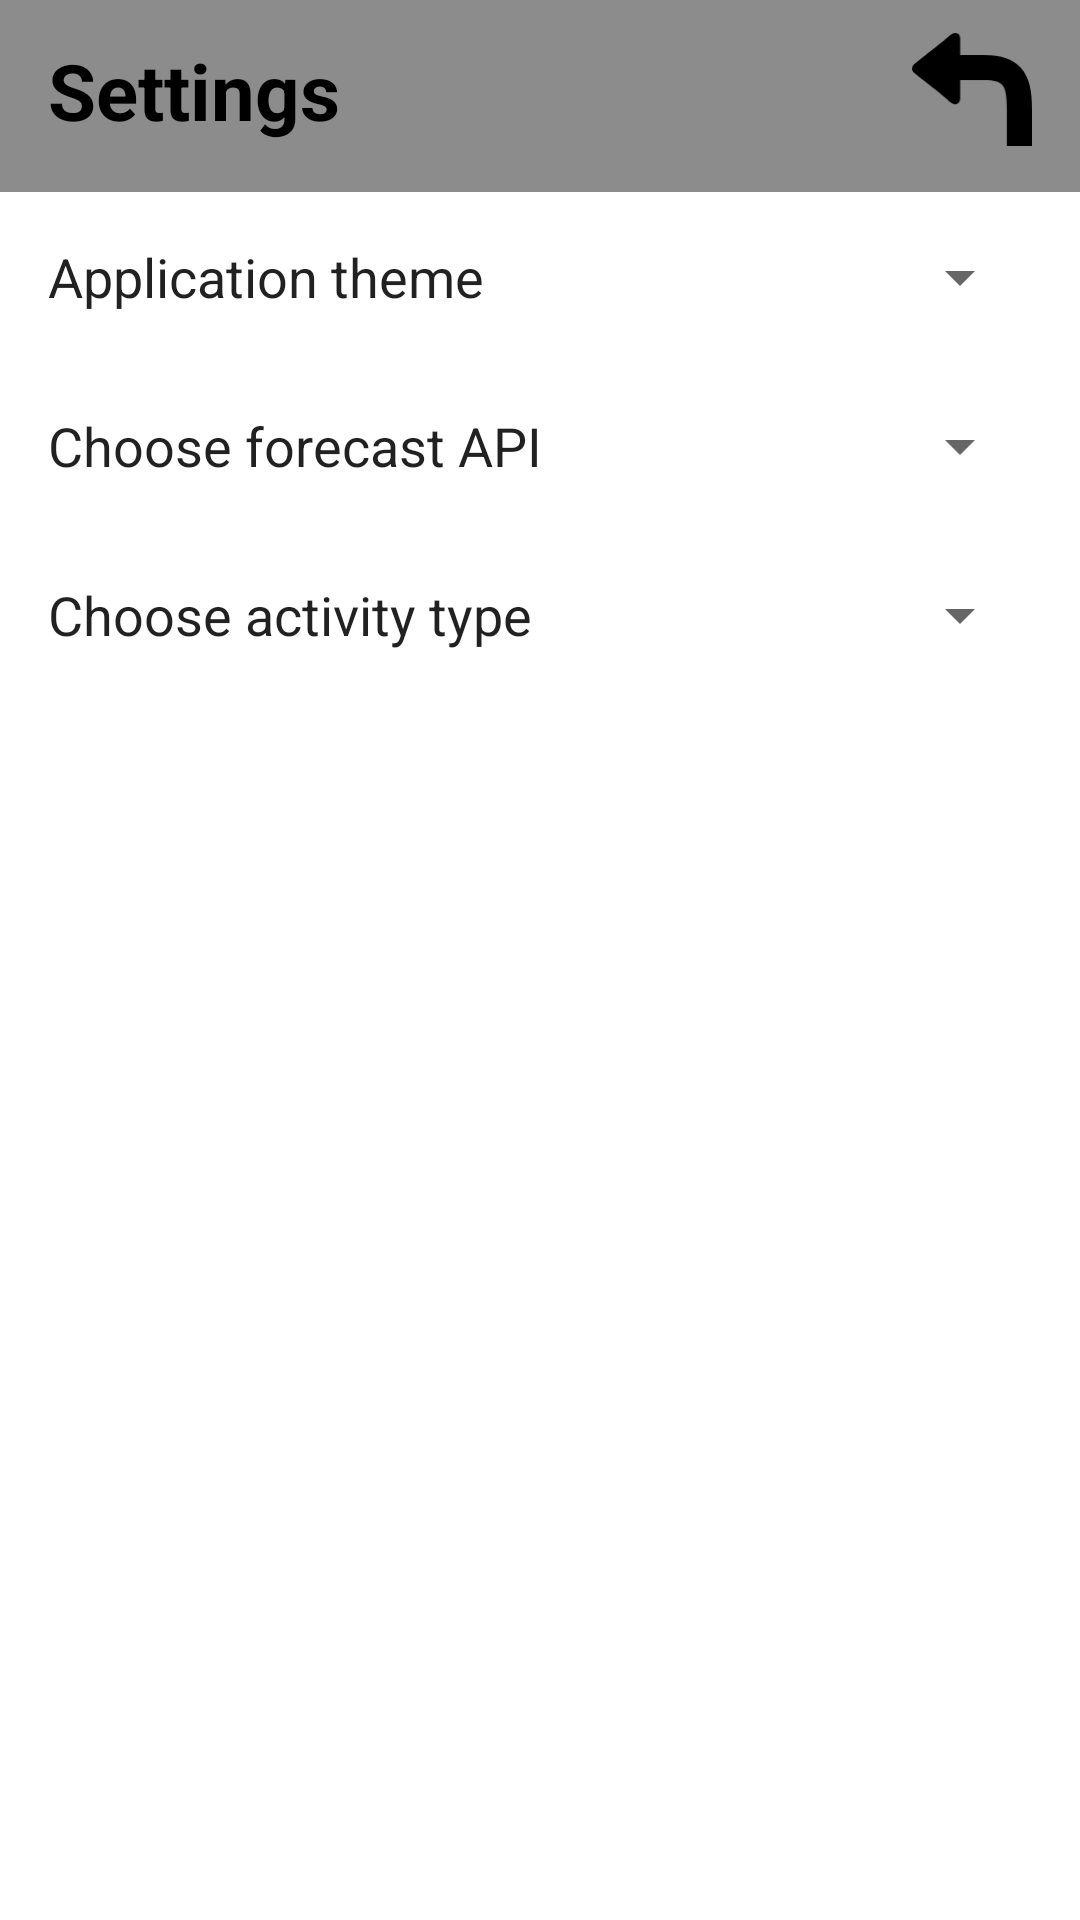

Point at icon controls on the screen. Image size 1080x1920, points as (x,y).
Go back: (972,89)
